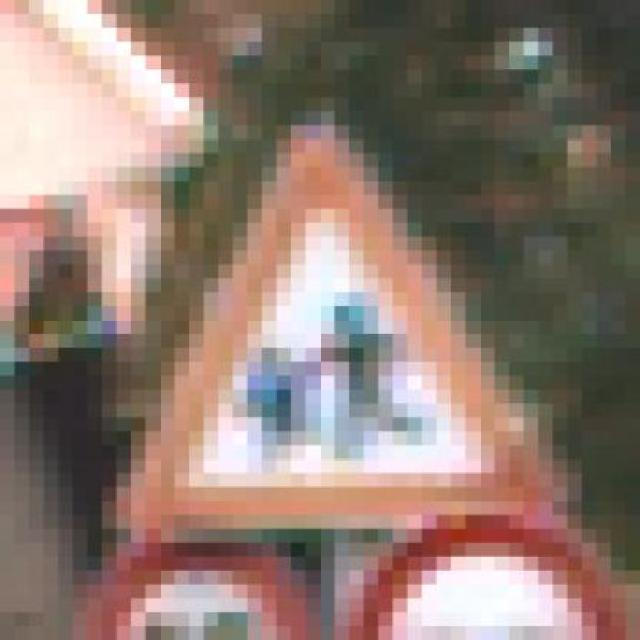Beware of children: (87, 111, 596, 543)
